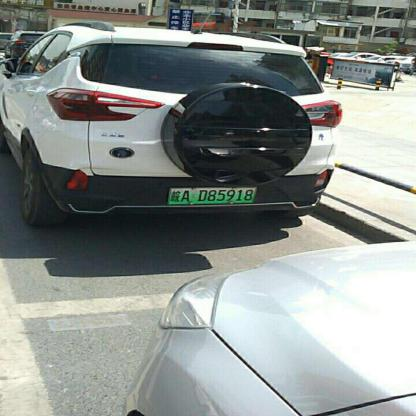lp: (167, 188, 258, 204)
